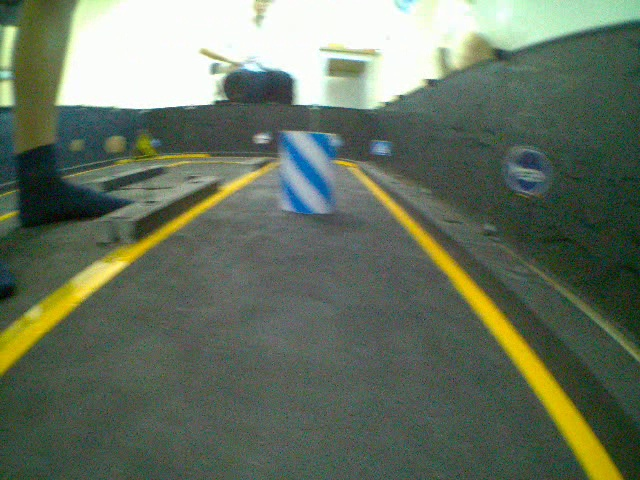bucket: (279, 126, 343, 217)
